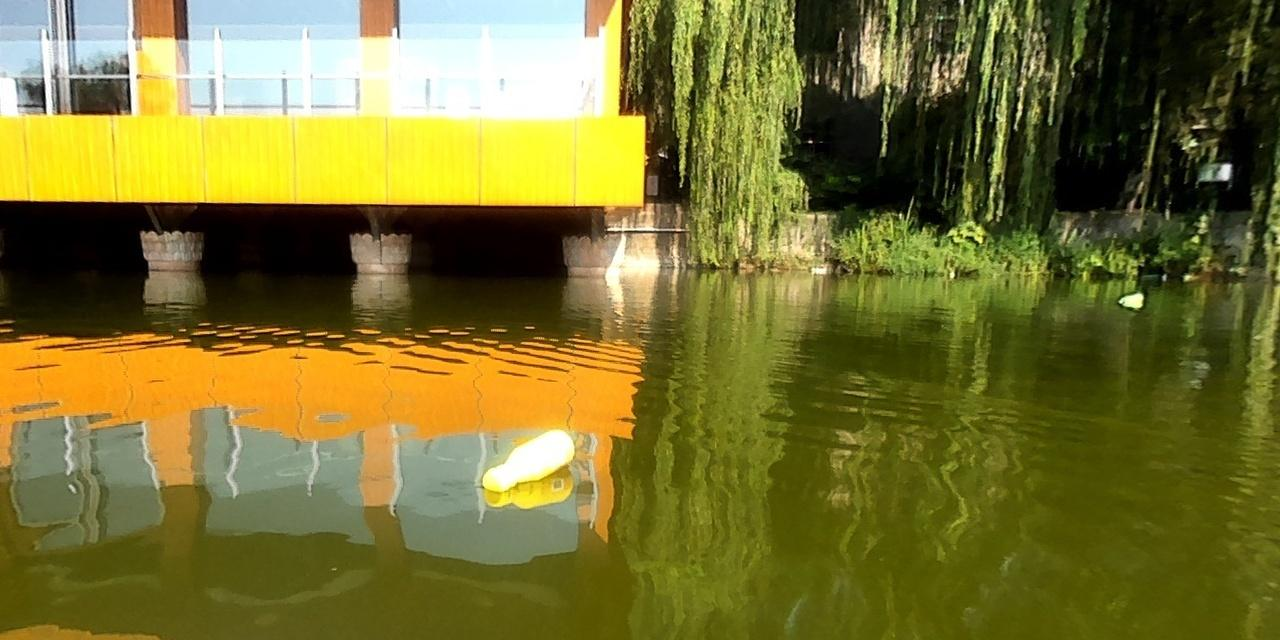bottle: (480, 427, 572, 492), (1117, 290, 1144, 303)
